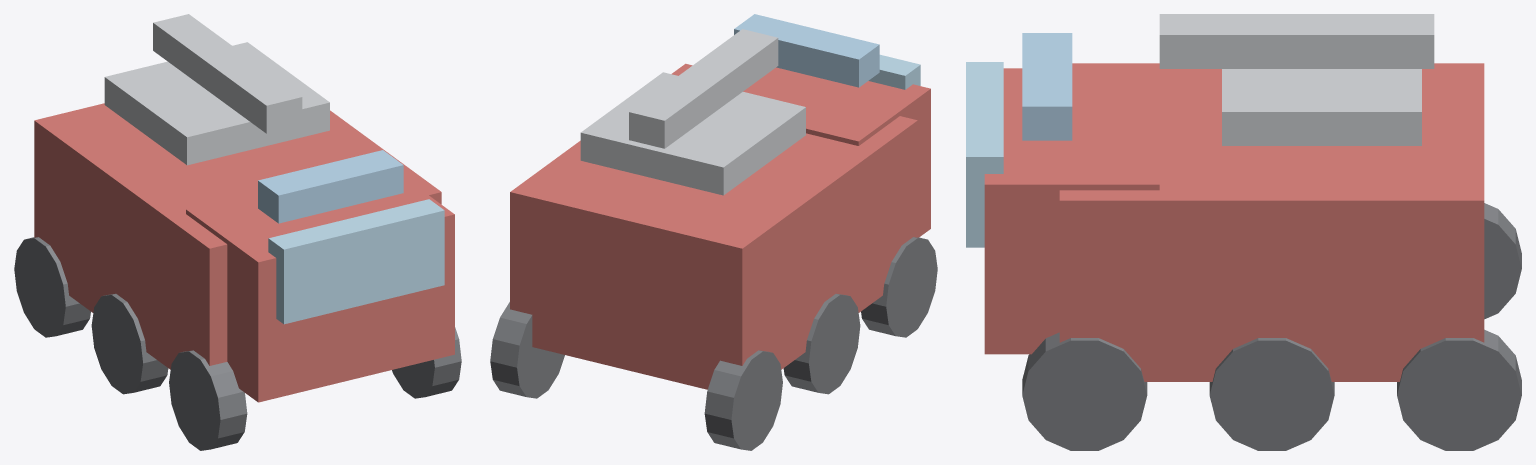
Rendered from firetruck.glb.
The picture shows the model from 3 angles, left to right: view 1: azimuth 30°, elevation 25°; view 2: azimuth 150°, elevation 25°; view 3: azimuth 270°, elevation 25°; orthographic projection. The views are drawn at different scales.
Parts seen in each view (by area): view 1: body, cab, windshield, ladder_base, ladder, light_bar, wheel_0, wheel_2, wheel_4, wheel_1; view 2: body, ladder_base, cab, ladder, wheel_4, light_bar, wheel_0, wheel_2, wheel_5, windshield; view 3: body, cab, ladder_base, ladder, wheel_5, wheel_1, wheel_3, windshield, light_bar, wheel_4.
Boxes of the visible parts, x1,y1,x2,y2 form: body: (34, 103, 441, 369); cab: (186, 177, 454, 402); windshield: (268, 199, 444, 324); ladder_base: (104, 42, 329, 165); ladder: (153, 14, 302, 133); light_bar: (258, 150, 403, 223); wheel_0: (169, 350, 247, 450); wheel_2: (91, 293, 168, 394); wheel_4: (14, 237, 90, 337); wheel_1: (392, 327, 461, 398); body: (510, 63, 917, 389); ladder_base: (580, 72, 805, 195); cab: (743, 67, 930, 237); ladder: (629, 29, 778, 148); wheel_4: (704, 350, 782, 450); light_bar: (734, 14, 879, 87); wheel_0: (861, 237, 937, 337); wheel_2: (783, 293, 860, 394); wheel_5: (490, 302, 564, 398); windshield: (868, 54, 920, 89); body: (1059, 63, 1484, 381); cab: (984, 68, 1159, 354); ladder_base: (1222, 69, 1421, 145); ladder: (1159, 14, 1434, 68); wheel_5: (1397, 329, 1521, 450); wheel_1: (1022, 332, 1147, 450); wheel_3: (1209, 338, 1334, 450); windshield: (966, 62, 1003, 247); light_bar: (1022, 33, 1072, 140); wheel_4: (1484, 203, 1521, 319).
Size of the model in its own units: 0.27 by 0.3137 by 0.445.
